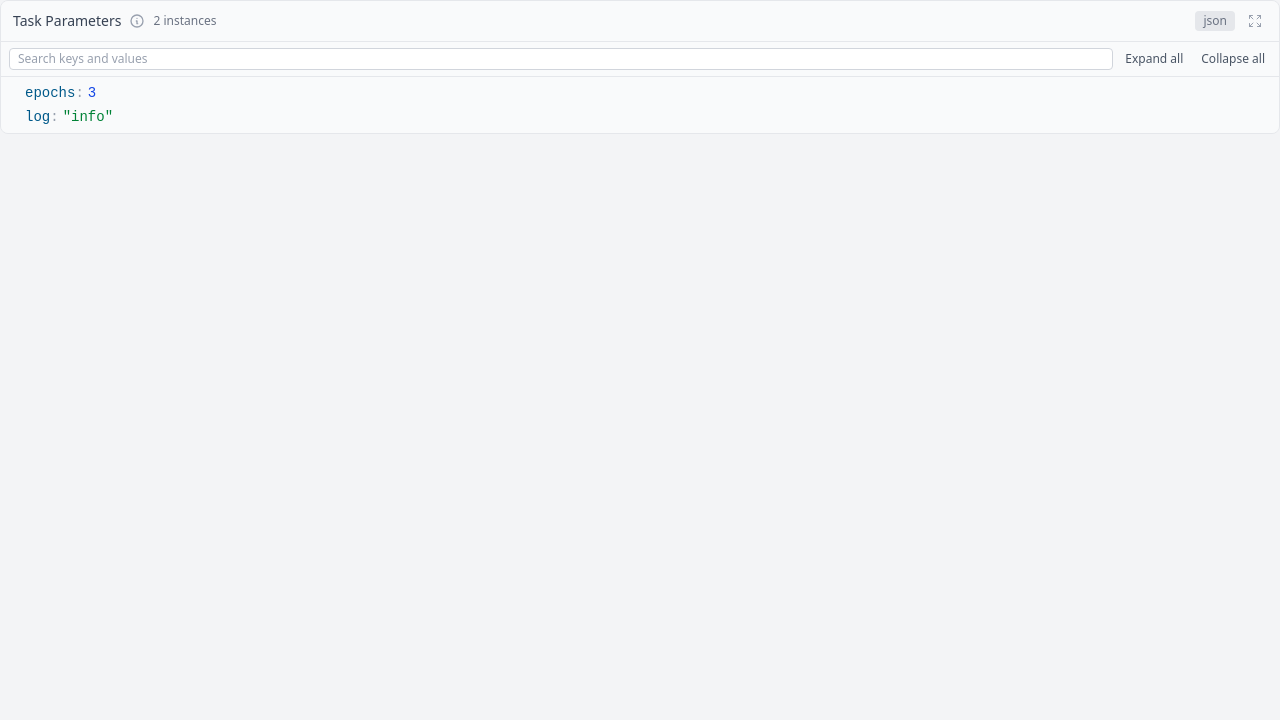
it: TaskParameters › lists every instance fullscreen, the current one selected, and switches on a row click
Click the button named "View parameters fullscreen".
click(1255, 21)  # box [1243,9,1267,33]
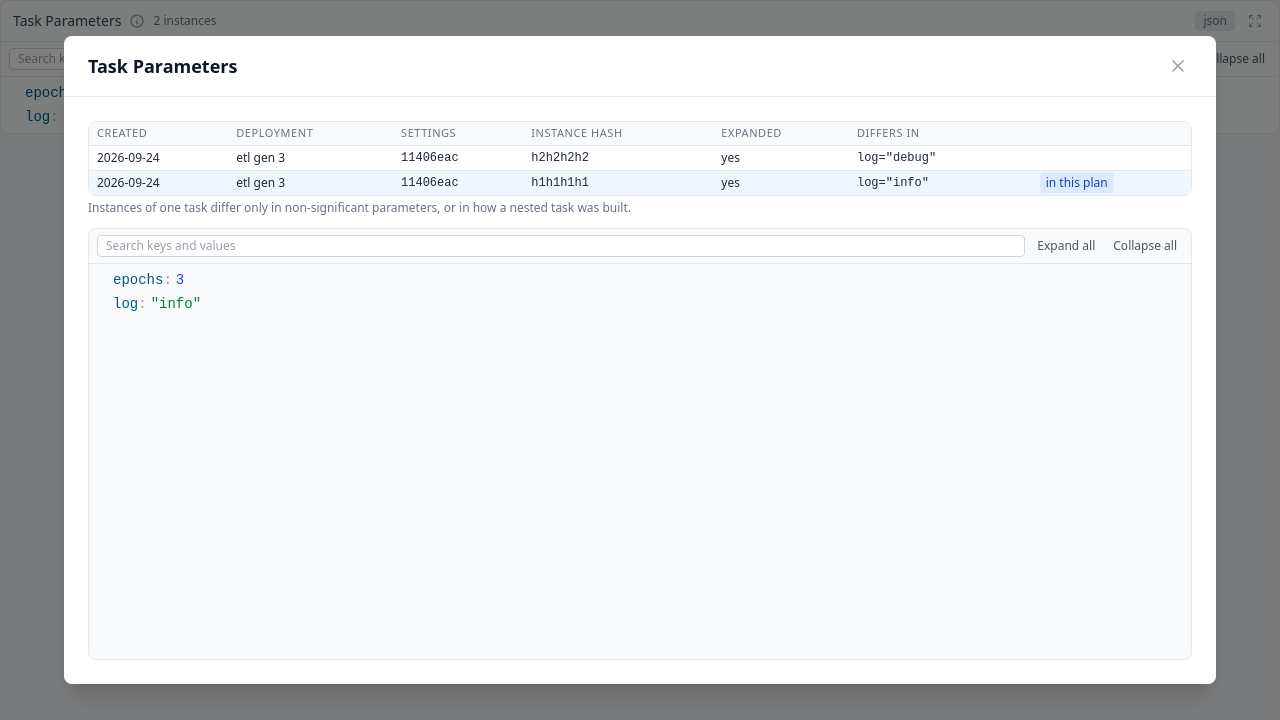
Expected: the text "in this plan" is shown, [1040,172,1114,193]
Expected: the list item with aria-label "log: info, string" is shown, [113,296,201,312]
Click the row "2026-09-24 etl gen 3 11406eac h2h2h2h2 yes log=\"debug\"".
click(640, 158)  # box [89,145,1191,170]
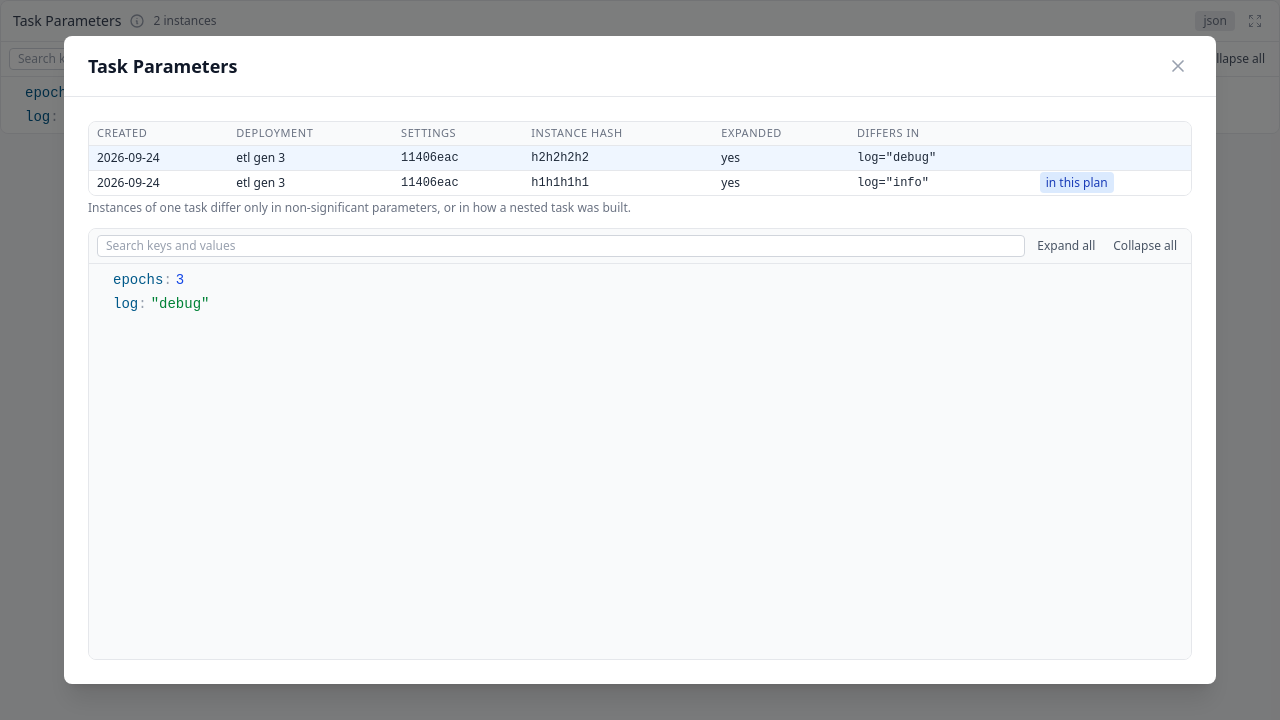
Press Enter in the 3rd row, box [89,170,1191,195]
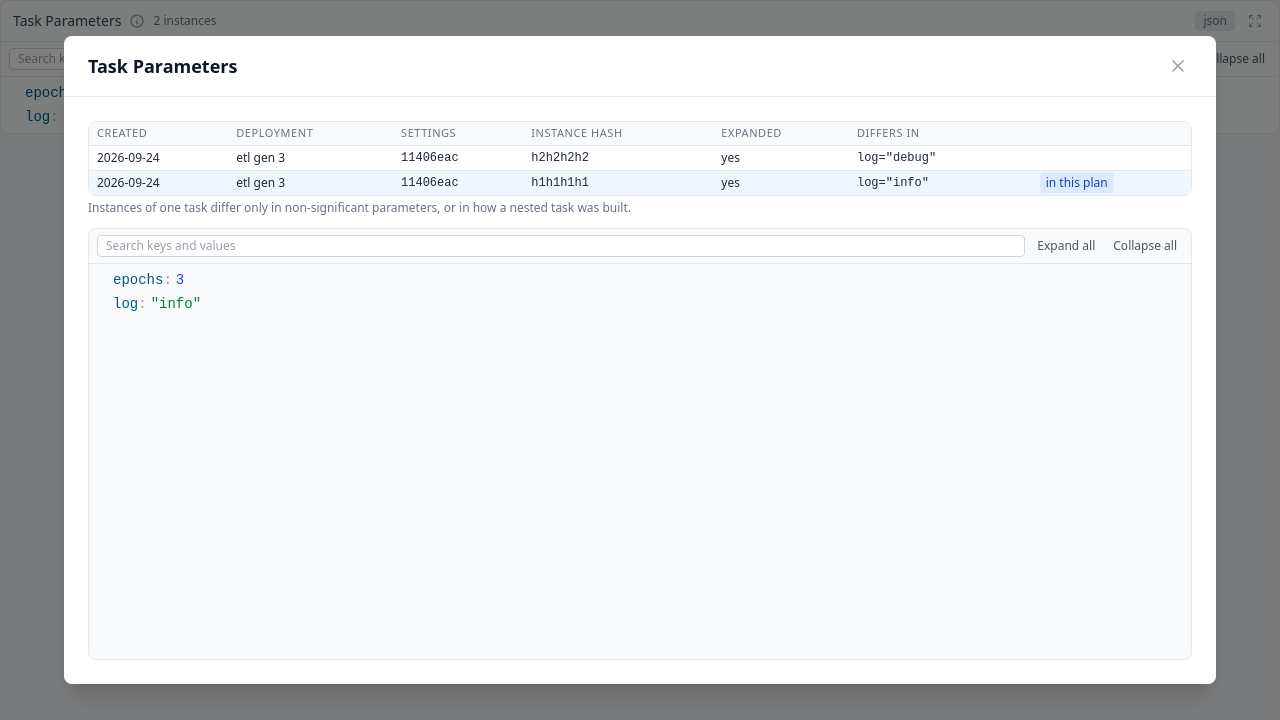
Press Space in the row "2026-09-24 etl gen 3 11406eac h2h2h2h2 yes log=\"debug\"", box [89,145,1191,170]
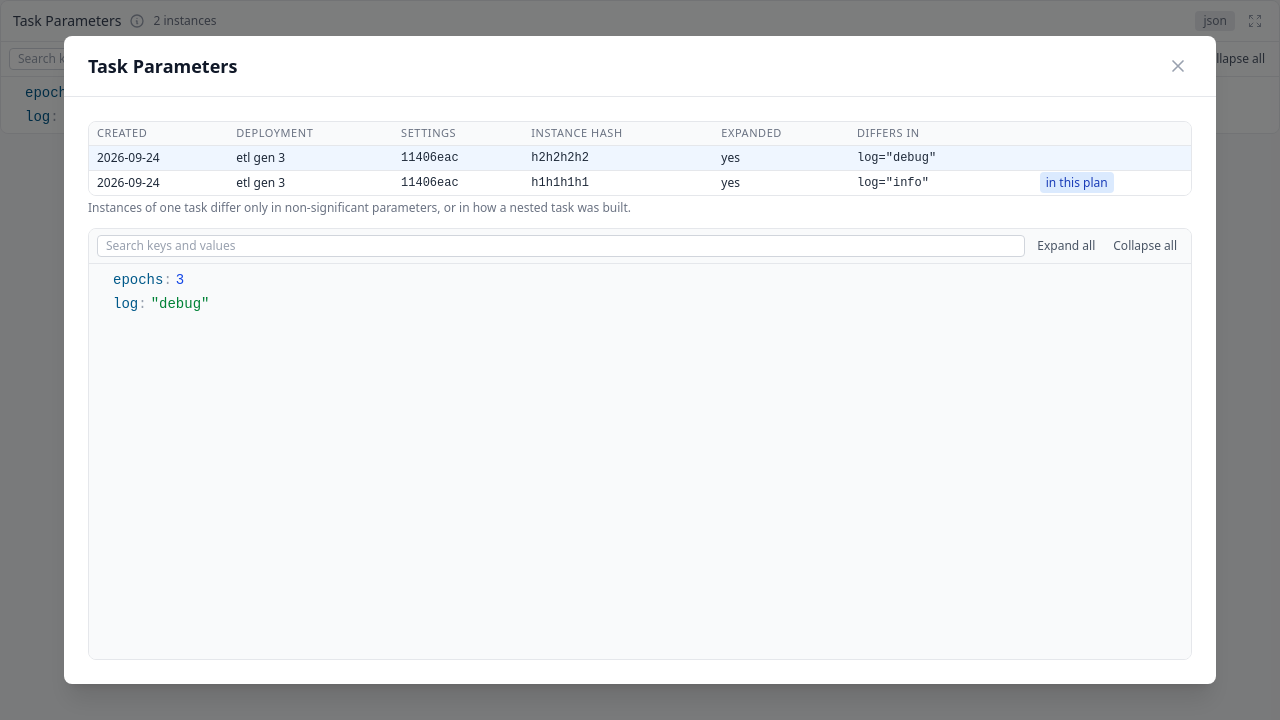
Expected: the list item with aria-label "log: debug, string" is shown, [113,296,210,312]
